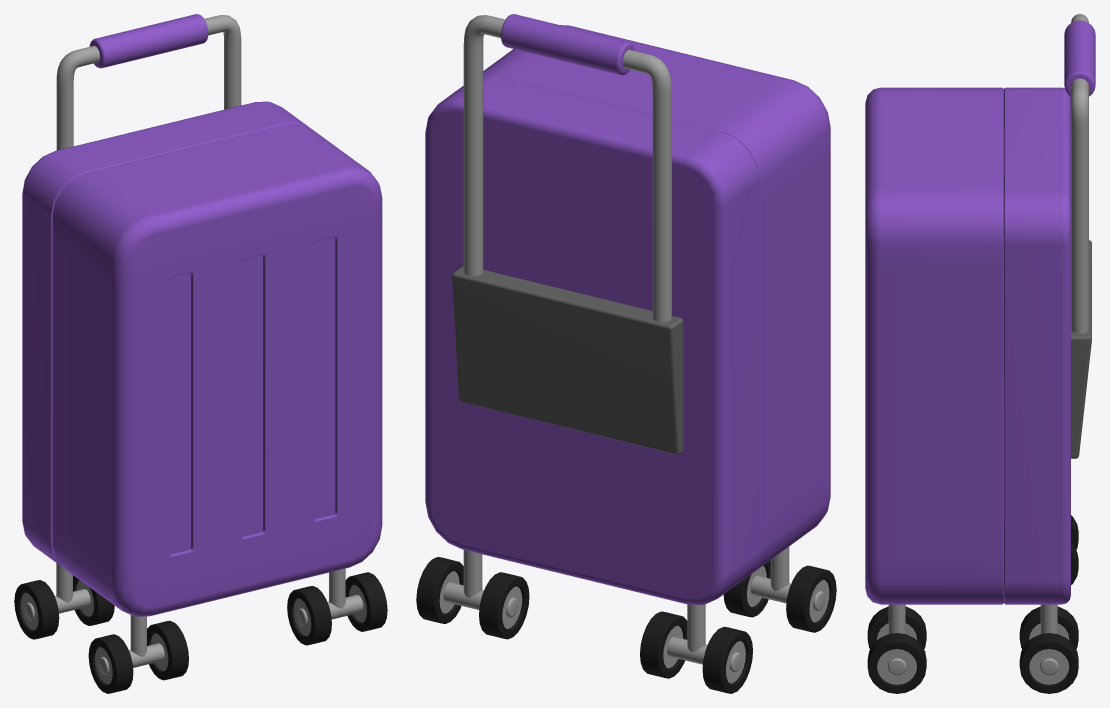
File: Public_7_Suitcase_5.glb
The picture shows the model from 3 angles, left to right: view 1: azimuth 30°, elevation 25°; view 2: azimuth 150°, elevation 25°; view 3: azimuth 270°, elevation 25°; orthographic projection. The views are drawn at different scales.
Parts seen in each view (by area): view 1: Public_7_Suitcase_5; view 2: Public_7_Suitcase_5; view 3: Public_7_Suitcase_5.
Boxes of the visible parts, left/top/right/bottom form: Public_7_Suitcase_5: left=14, top=14, right=387, bottom=693; Public_7_Suitcase_5: left=416, top=14, right=836, bottom=693; Public_7_Suitcase_5: left=865, top=14, right=1095, bottom=693.
Size of the model in its own units: 0.8175 by 1.63 by 0.5861.
Materials: 1 (1 with a texture image).
